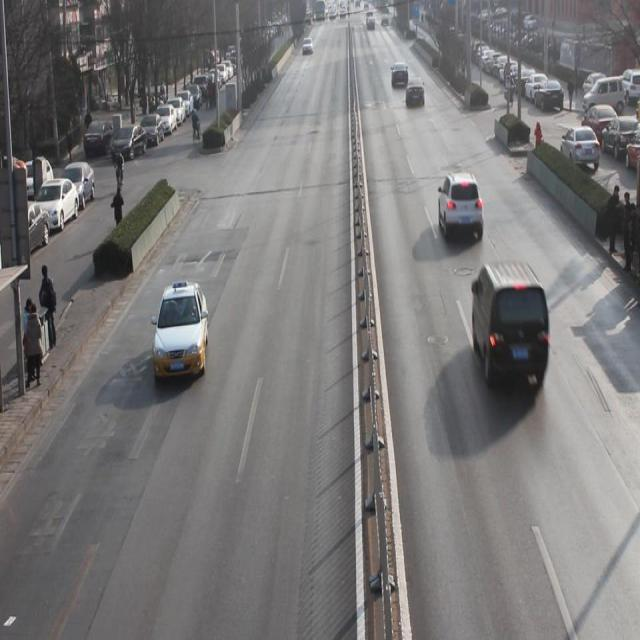car: (156, 283, 208, 383), (436, 172, 485, 245), (407, 77, 425, 110), (392, 64, 410, 95)
truck: (472, 258, 551, 394)
